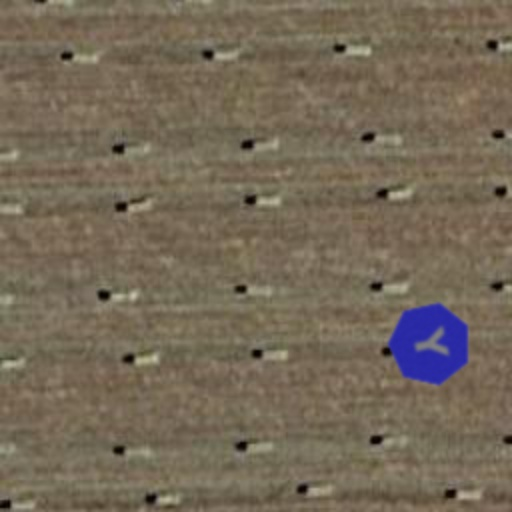heptagon: (378, 292, 482, 396)
